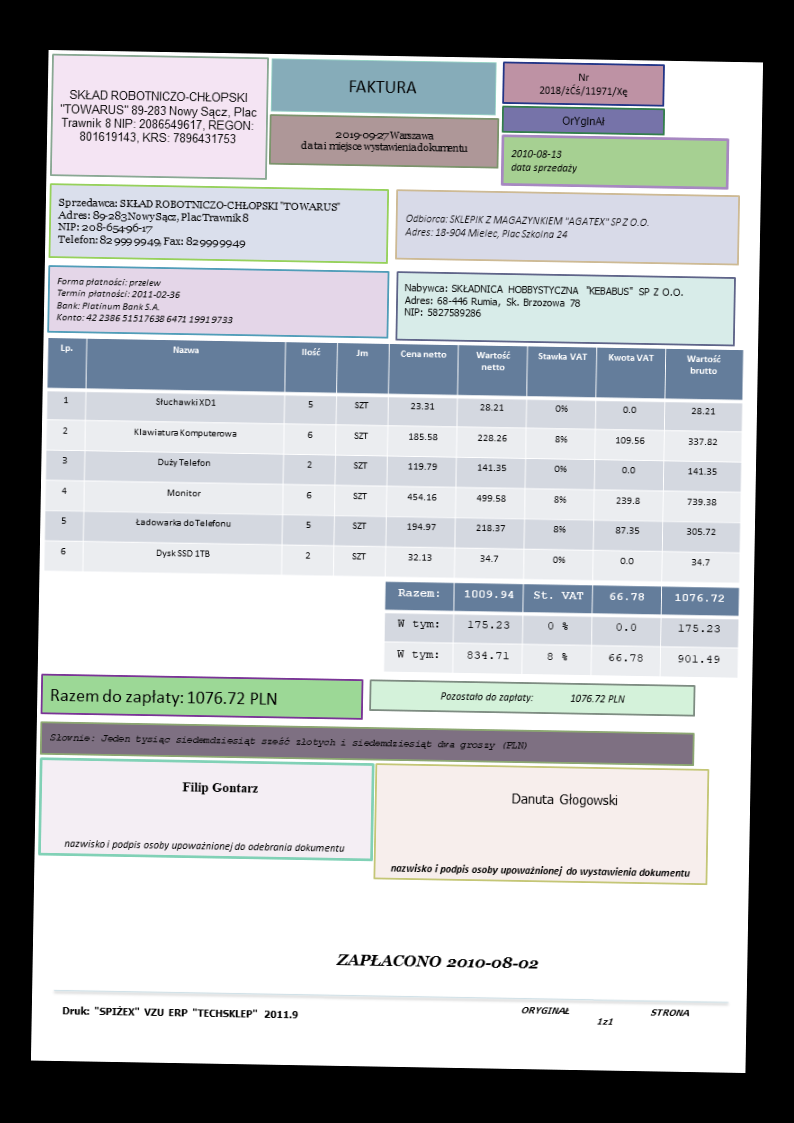Table: (42, 336, 743, 584), (382, 581, 741, 679)
TextBox: (54, 194, 342, 252), (401, 280, 687, 323), (57, 87, 259, 146), (47, 730, 528, 752), (54, 274, 235, 328), (403, 212, 651, 243), (388, 860, 691, 879), (49, 685, 279, 709), (62, 837, 346, 855), (298, 127, 472, 155), (331, 951, 541, 973), (60, 1003, 301, 1022), (519, 1004, 693, 1029), (439, 689, 628, 706), (537, 71, 631, 100), (510, 791, 619, 811), (508, 146, 580, 175), (346, 77, 418, 98), (180, 779, 260, 796), (559, 112, 606, 129)
